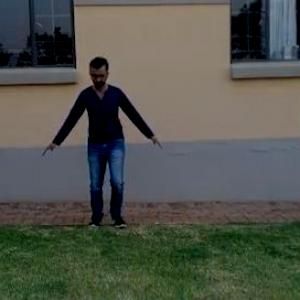land: (34, 55, 169, 233)
